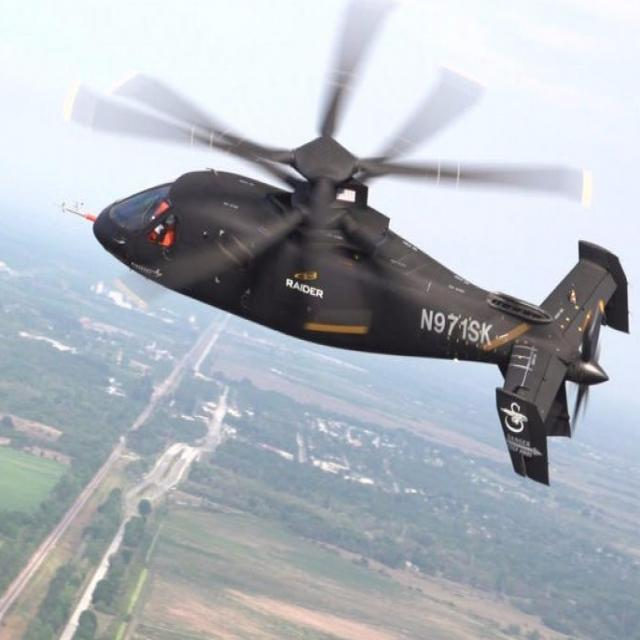helicopter: (68, 1, 640, 493)
